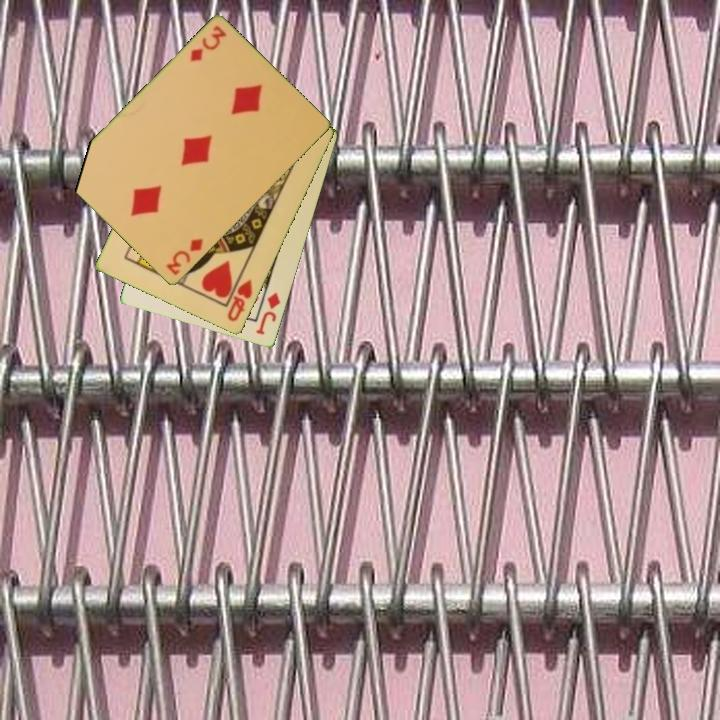3d: (163, 235, 206, 278), (187, 22, 230, 65)
Jd: (253, 289, 283, 338)
Qh: (224, 276, 256, 325)
